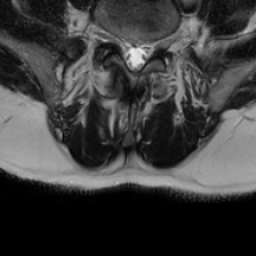CCS_normal: (131, 37, 137, 77)
LFS_normal: (149, 31, 160, 63)
LLS_normal: (139, 34, 149, 69)
RFS_normal: (110, 26, 121, 54)
RLS_normal: (121, 34, 131, 67)
